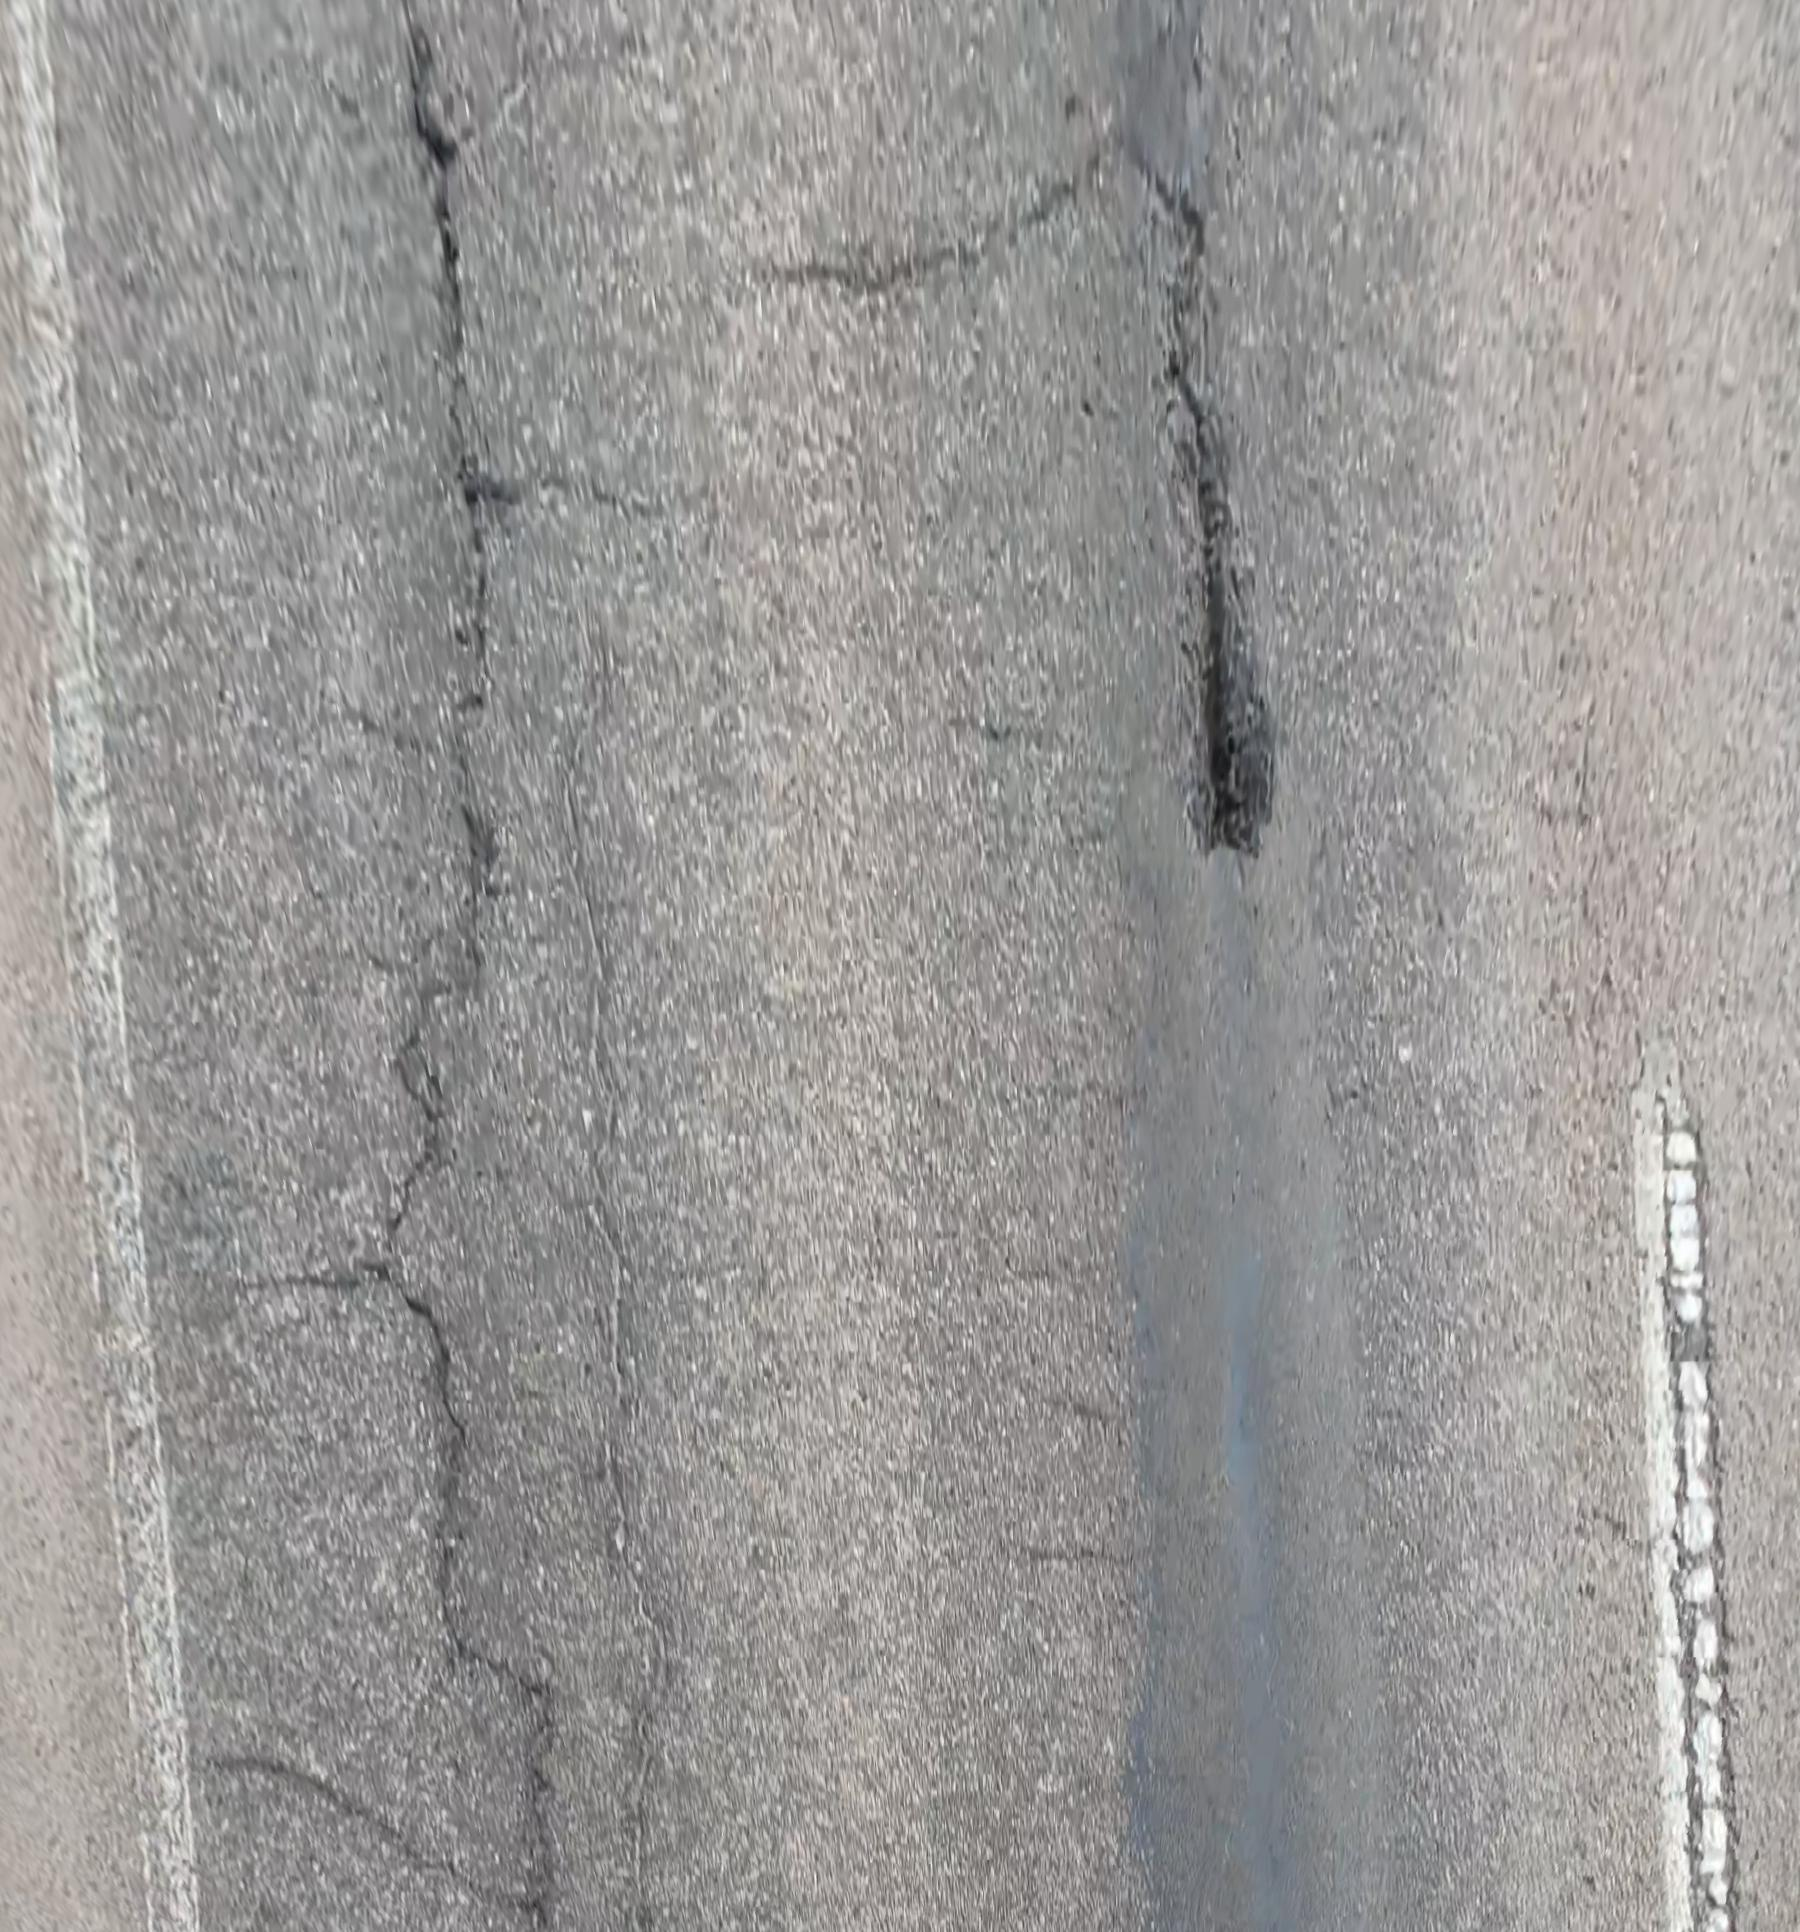pothole: (1172, 360, 1277, 856)
pothole_patch_good: (1132, 770, 1541, 1932)
